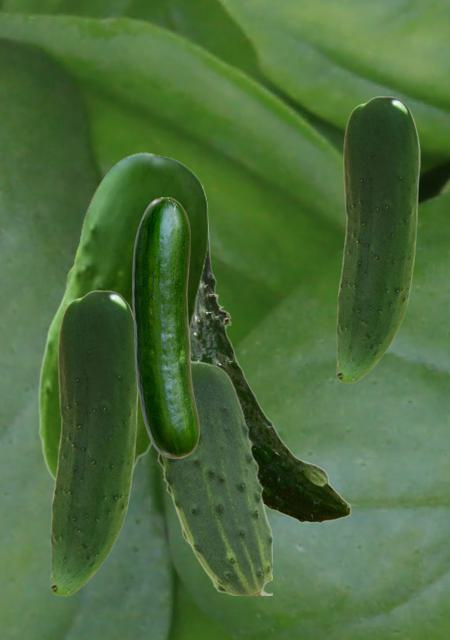cucumber: (38, 152, 207, 480), (191, 185, 350, 522), (50, 290, 139, 595), (157, 360, 271, 594), (336, 96, 419, 382), (132, 197, 198, 457)
